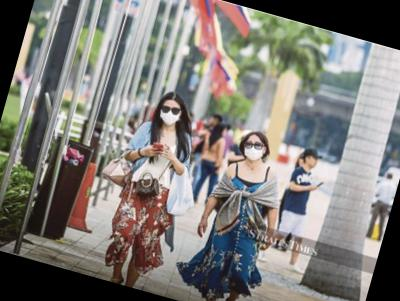with_mask: (157, 103, 183, 128), (241, 138, 266, 163)
without_mask: (304, 154, 320, 171)
